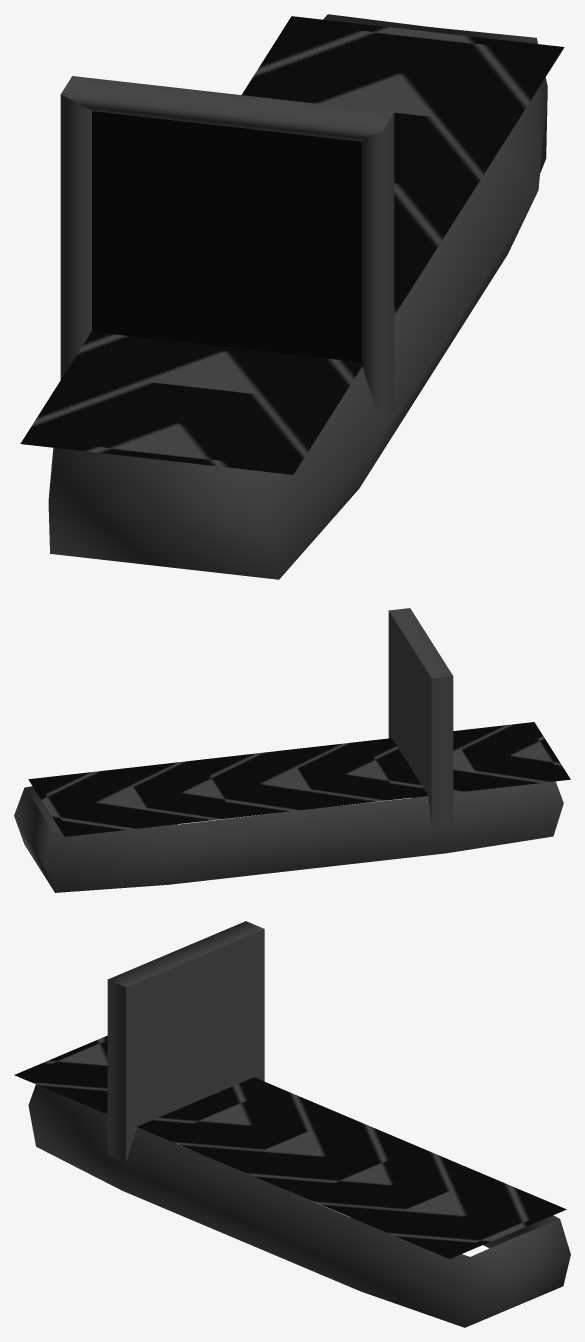
Rendered from SM_Hub_bagdeposit_01.fbx.
3 views of the same model, one above another, from view 1: azimuth 30°, elevation 25°; view 2: azimuth 150°, elevation 25°; view 3: azimuth 270°, elevation 25° (orthographic). The views are drawn at different scales.
Visible parts, largest first — view 1: SM_Hub_Deposit_01, SM_Hub_Conveyorbelt_01, SM_Hub_Conveyorbelt_02; view 2: SM_Hub_Conveyorbelt_02, SM_Hub_Conveyorbelt_01, SM_Hub_Deposit_01; view 3: SM_Hub_Conveyorbelt_02, SM_Hub_Conveyorbelt_01, SM_Hub_Deposit_01.
Part boxes in pixels (<box>): SM_Hub_Deposit_01: <box>60,76,394,428</box>; SM_Hub_Conveyorbelt_01: <box>20,16,564,474</box>; SM_Hub_Conveyorbelt_02: <box>48,14,547,579</box>; SM_Hub_Conveyorbelt_02: <box>14,781,563,892</box>; SM_Hub_Conveyorbelt_01: <box>28,722,570,836</box>; SM_Hub_Deposit_01: <box>388,608,453,826</box>; SM_Hub_Conveyorbelt_02: <box>28,1084,570,1327</box>; SM_Hub_Conveyorbelt_01: <box>14,1035,566,1258</box>; SM_Hub_Deposit_01: <box>107,921,264,1162</box>.
Bounding box in the file's own units: 33.84 × 14.36 × 33.84.
